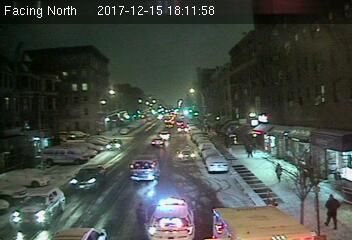car: (9, 187, 67, 224), (69, 164, 107, 189), (130, 157, 161, 182), (204, 156, 229, 172), (177, 147, 195, 161), (106, 138, 122, 150), (151, 137, 164, 146)
pedestrian: (323, 190, 339, 228), (275, 162, 281, 183)
police: (143, 198, 197, 240)
